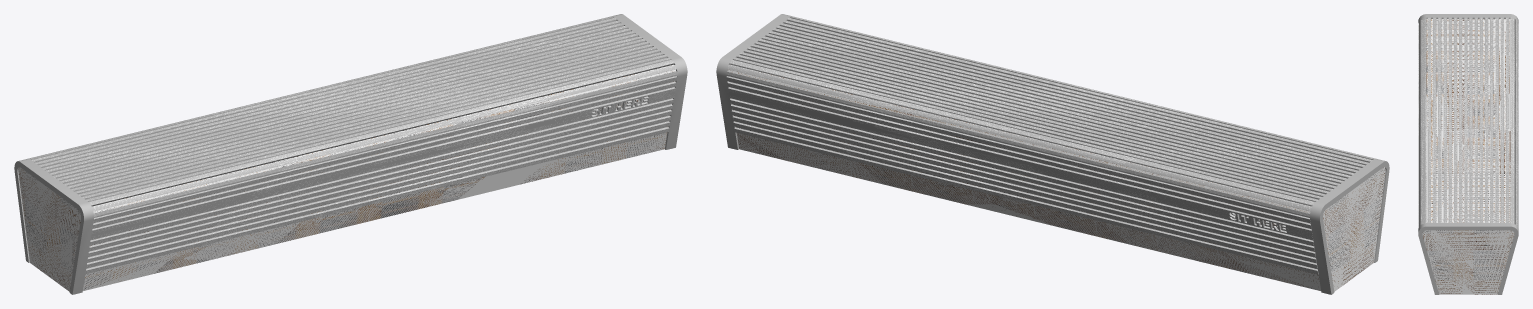
3 views of the same model, side by side, from view 1: azimuth 30°, elevation 25°; view 2: azimuth 150°, elevation 25°; view 3: azimuth 270°, elevation 25° (orthographic). The views are drawn at different scales.
Parts seen in each view (by area): view 1: mesh2_mesh2-geometry, mesh1_mesh1-geometry, mesh16_mesh16-geometry, mesh10_mesh10-geometry, mesh7_mesh7-geometry, mesh17_mesh17-geometry, mesh6_mesh6-geometry, mesh5_mesh5-geometry; view 2: mesh16_mesh16-geometry, mesh1_mesh1-geometry, mesh2_mesh2-geometry, mesh3_mesh3-geometry, mesh4_mesh4-geometry, mesh10_mesh10-geometry, mesh7_mesh7-geometry, mesh17_mesh17-geometry, mesh6_mesh6-geometry, mesh5_mesh5-geometry; view 3: mesh16_mesh16-geometry, mesh1_mesh1-geometry, mesh2_mesh2-geometry, mesh7_mesh7-geometry, mesh17_mesh17-geometry, mesh6_mesh6-geometry, mesh5_mesh5-geometry.
Boxes of the visible parts, bbox=[...] form: mesh2_mesh2-geometry: bbox=[31, 18, 677, 268]; mesh1_mesh1-geometry: bbox=[35, 20, 676, 274]; mesh16_mesh16-geometry: bbox=[18, 64, 675, 291]; mesh10_mesh10-geometry: bbox=[90, 87, 675, 239]; mesh7_mesh7-geometry: bbox=[28, 16, 674, 206]; mesh17_mesh17-geometry: bbox=[14, 14, 687, 294]; mesh6_mesh6-geometry: bbox=[92, 65, 676, 211]; mesh5_mesh5-geometry: bbox=[94, 71, 677, 217]; mesh16_mesh16-geometry: bbox=[728, 64, 1385, 291]; mesh1_mesh1-geometry: bbox=[736, 18, 1372, 199]; mesh2_mesh2-geometry: bbox=[733, 20, 1368, 201]; mesh3_mesh3-geometry: bbox=[727, 81, 1318, 274]; mesh4_mesh4-geometry: bbox=[726, 76, 1317, 268]; mesh10_mesh10-geometry: bbox=[728, 87, 1313, 240]; mesh7_mesh7-geometry: bbox=[729, 16, 1375, 206]; mesh17_mesh17-geometry: bbox=[716, 14, 1389, 294]; mesh6_mesh6-geometry: bbox=[727, 65, 1311, 211]; mesh5_mesh5-geometry: bbox=[726, 71, 1309, 217]; mesh16_mesh16-geometry: bbox=[1422, 19, 1514, 294]; mesh1_mesh1-geometry: bbox=[1427, 17, 1503, 222]; mesh2_mesh2-geometry: bbox=[1433, 17, 1509, 222]; mesh7_mesh7-geometry: bbox=[1422, 17, 1514, 223]; mesh17_mesh17-geometry: bbox=[1418, 14, 1518, 294]; mesh6_mesh6-geometry: bbox=[1419, 19, 1517, 226]; mesh5_mesh5-geometry: bbox=[1418, 23, 1518, 228].
Bounding box in the file's own units: 0.9701 × 0.1455 × 0.194.
